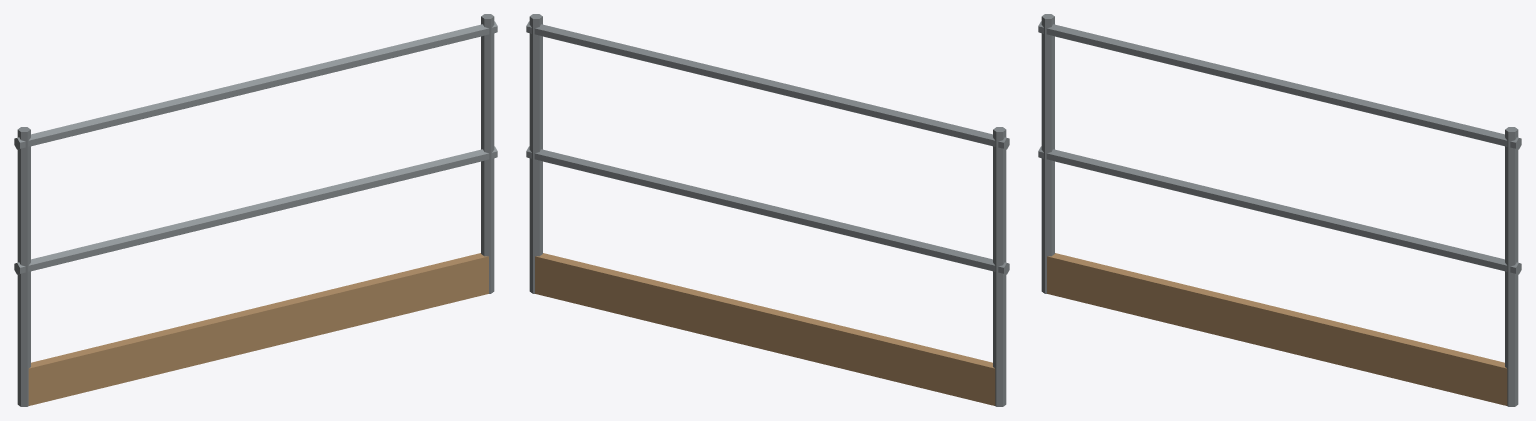
File: prop_scaffold_edge_w200_h110.glb
3 views of the same model, side by side, from view 1: azimuth 30°, elevation 25°; view 2: azimuth 150°, elevation 25°; view 3: azimuth 330°, elevation 25° (orthographic).
Parts seen in each view (by area): view 1: Body; view 2: Body; view 3: Body.
Boxes of the visible parts, bbox=[...] form: Body: bbox=[14, 14, 497, 406]; Body: bbox=[526, 14, 1009, 406]; Body: bbox=[1038, 14, 1521, 406].
Size of the model in its own units: 2 by 1.1 by 0.048.
